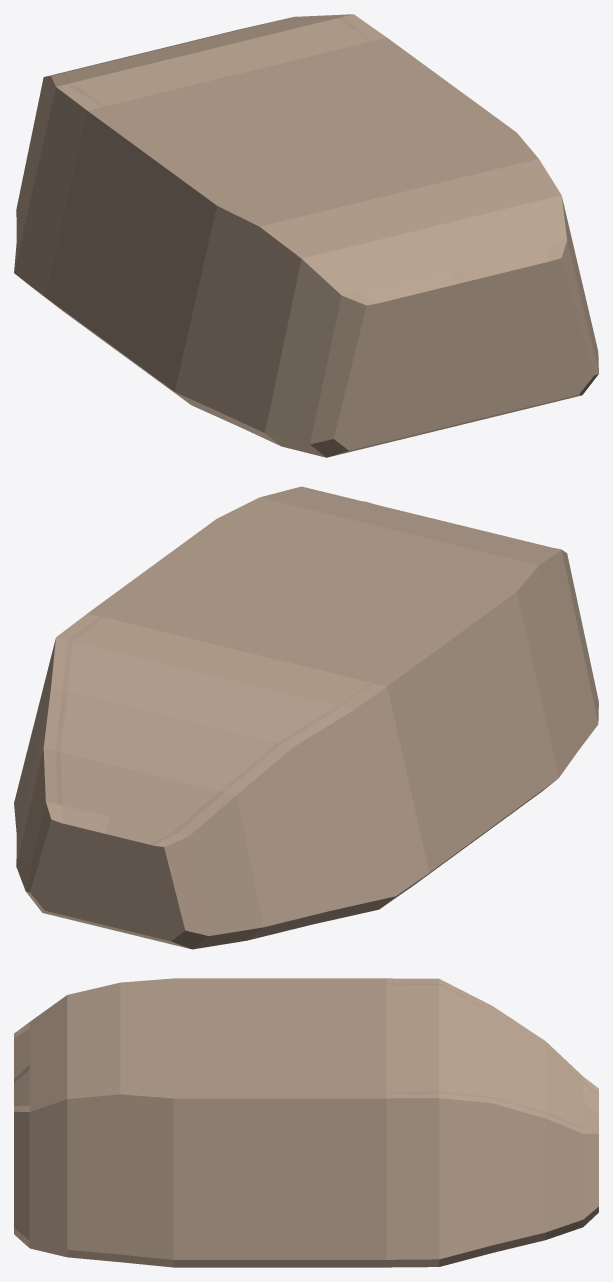
Rendered from orrin_light_a.glb.
3 renders of one model, top to bottom at view 1: azimuth 30°, elevation 25°; view 2: azimuth 150°, elevation 25°; view 3: azimuth 270°, elevation 25°, orthographic. The views are drawn at different scales.
Parts seen in each view (by area): view 1: orrin_light_a; view 2: orrin_light_a; view 3: orrin_light_a.
Part boxes in pixels (x1,y1,x2,y2): orrin_light_a: (14,14,598,457); orrin_light_a: (14,486,598,949); orrin_light_a: (14,978,598,1267).
Size of the model in its own units: 3.3 by 1.59 by 5.3.
